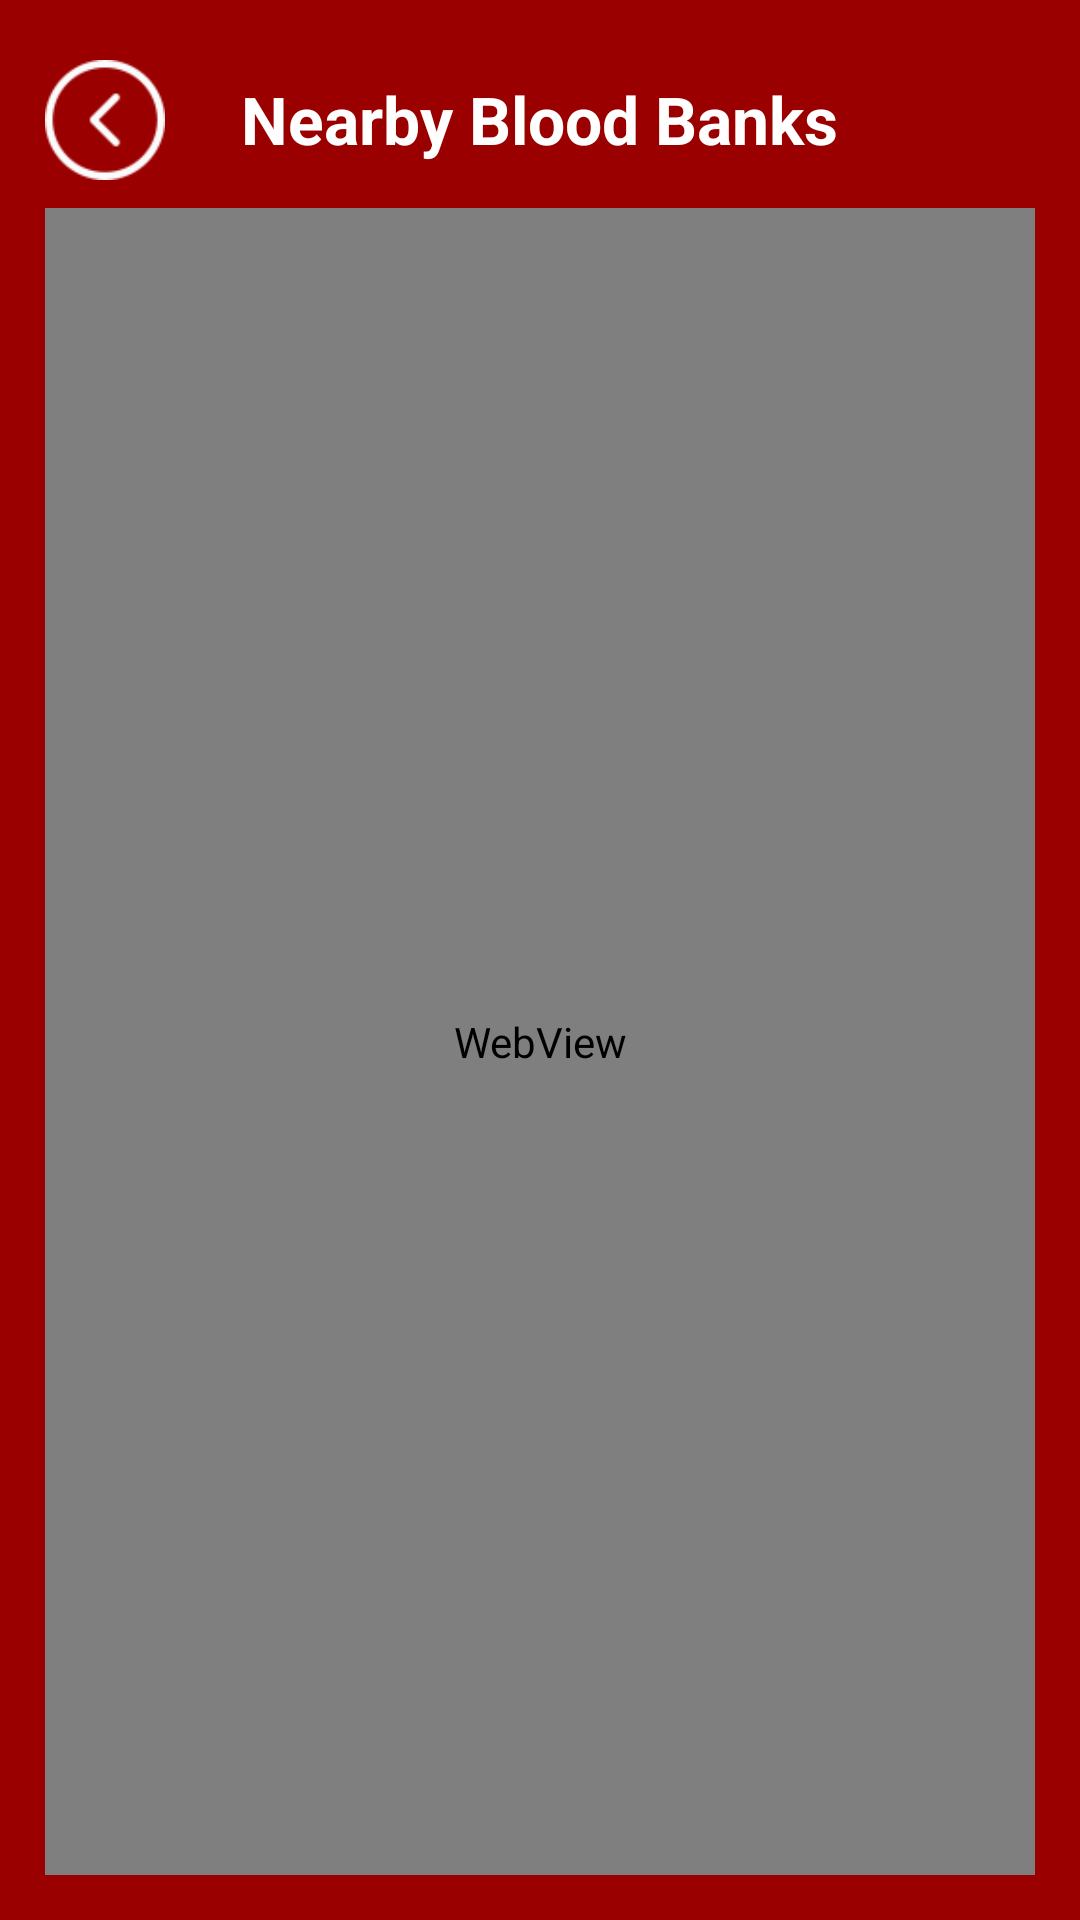

Where to tap for icons on this 1080 × 1920 app screen, as [x,y]:
back: [105,120]
